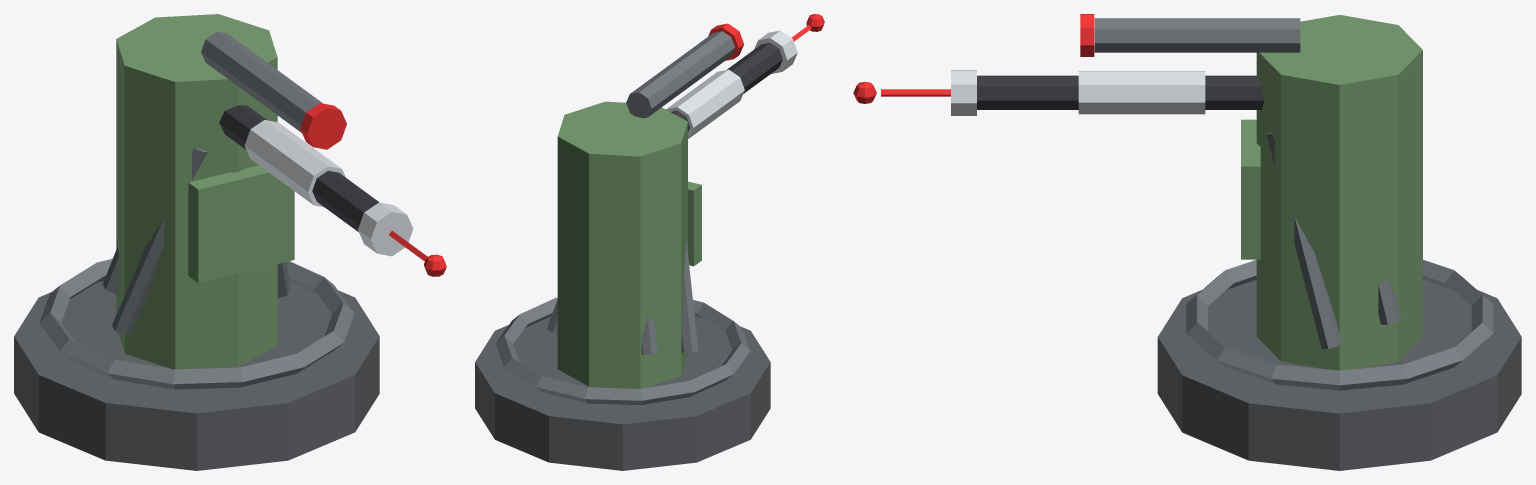
Rendered from TD_SniperTower_T2.fbx.
3 views of the same model, side by side, from view 1: azimuth 30°, elevation 25°; view 2: azimuth 150°, elevation 25°; view 3: azimuth 270°, elevation 25° (orthographic). The views are drawn at different scales.
Visible parts, largest first — view 1: TD_SniperTower_T2_Base, TD_SniperTower_T2_Body, TD_SniperTower_T2_GreenArmorPlate, TD_SniperTower_T2_BaseSupportRing, TD_SniperTower_T2_Scope_Elite, TD_SniperTower_T2_SilverBarrelReinforcement, TD_SniperTower_T2_LongBarrel, TD_SniperTower_T2_Support_01, TD_SniperTower_T2_MuzzleTip, TD_SniperTower_T2_RedLens_Elite, TD_SniperTower_T2_Support_03; view 2: TD_SniperTower_T2_Body, TD_SniperTower_T2_Base, TD_SniperTower_T2_BaseSupportRing, TD_SniperTower_T2_Scope_Elite, TD_SniperTower_T2_SilverBarrelReinforcement, TD_SniperTower_T2_LongBarrel, TD_SniperTower_T2_GreenArmorPlate, TD_SniperTower_T2_Support_01, TD_SniperTower_T2_MuzzleTip, TD_SniperTower_T2_Support_03, TD_SniperTower_T2_RedLens_Elite; view 3: TD_SniperTower_T2_Body, TD_SniperTower_T2_Base, TD_SniperTower_T2_BaseSupportRing, TD_SniperTower_T2_Scope_Elite, TD_SniperTower_T2_SilverBarrelReinforcement, TD_SniperTower_T2_LongBarrel, TD_SniperTower_T2_GreenArmorPlate, TD_SniperTower_T2_Support_02, TD_SniperTower_T2_MuzzleTip, TD_SniperTower_T2_Support_04.
Part boxes in pixels (x1,y1,x2,y2): TD_SniperTower_T2_Base: (14,281,379,470); TD_SniperTower_T2_Body: (116,14,277,369); TD_SniperTower_T2_GreenArmorPlate: (188,165,294,283); TD_SniperTower_T2_BaseSupportRing: (39,258,354,389); TD_SniperTower_T2_Scope_Elite: (201,31,322,132); TD_SniperTower_T2_SilverBarrelReinforcement: (244,120,345,207); TD_SniperTower_T2_LongBarrel: (219,105,378,232); TD_SniperTower_T2_Support_01: (112,147,207,335); TD_SniperTower_T2_MuzzleTip: (358,202,413,256); TD_SniperTower_T2_RedLens_Elite: (300,103,346,149); TD_SniperTower_T2_Support_03: (103,246,119,293); TD_SniperTower_T2_Body: (557,101,687,388); TD_SniperTower_T2_Base: (475,316,770,470); TD_SniperTower_T2_BaseSupportRing: (495,297,750,405); TD_SniperTower_T2_Scope_Elite: (626,31,734,118); TD_SniperTower_T2_SilverBarrelReinforcement: (666,69,744,138); TD_SniperTower_T2_LongBarrel: (671,43,782,131); TD_SniperTower_T2_GreenArmorPlate: (688,181,701,266); TD_SniperTower_T2_Support_01: (681,239,698,352); TD_SniperTower_T2_MuzzleTip: (754,30,797,73); TD_SniperTower_T2_Support_03: (641,317,657,354); TD_SniperTower_T2_RedLens_Elite: (708,23,744,60); TD_SniperTower_T2_Body: (1256,15,1422,370); TD_SniperTower_T2_Base: (1157,280,1521,470); TD_SniperTower_T2_BaseSupportRing: (1186,259,1493,390); TD_SniperTower_T2_Scope_Elite: (1094,18,1300,52); TD_SniperTower_T2_SilverBarrelReinforcement: (1078,71,1205,114); TD_SniperTower_T2_LongBarrel: (977,75,1264,109); TD_SniperTower_T2_GreenArmorPlate: (1241,119,1260,259); TD_SniperTower_T2_Support_02: (1266,132,1341,349); TD_SniperTower_T2_MuzzleTip: (951,70,976,115); TD_SniperTower_T2_Support_04: (1378,278,1401,324).
Size of the model in its own units: 0.92 by 1.06 by 1.69.
